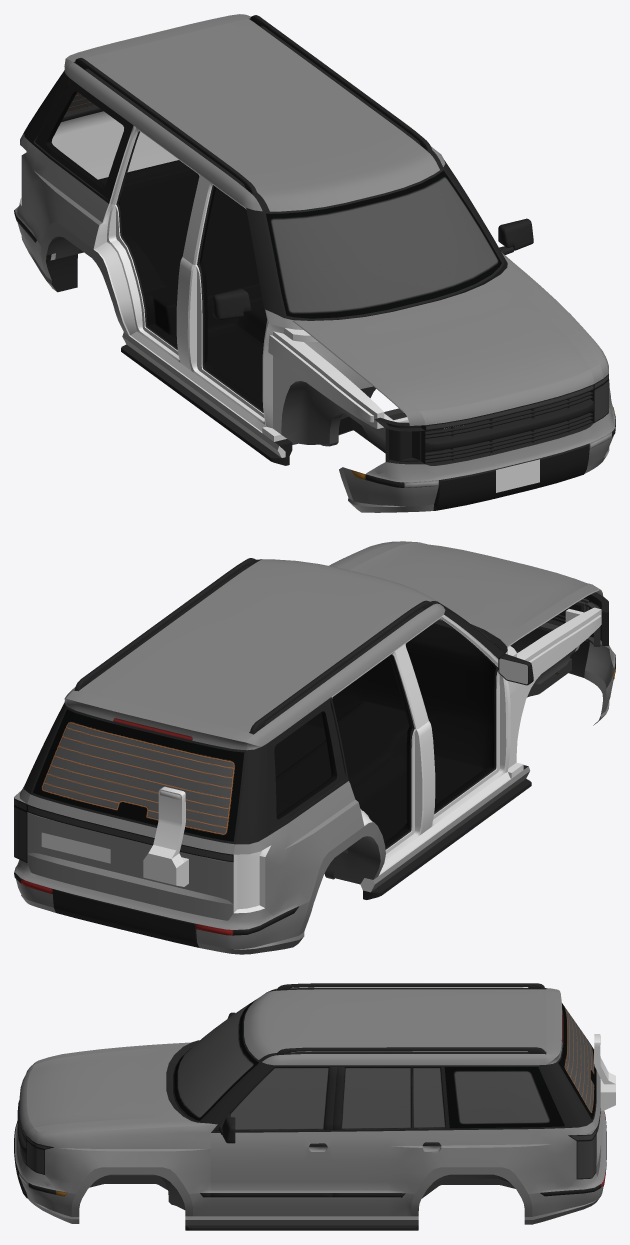
Rendered from interrawt3.dae.
The picture shows the model from 3 angles, top to bottom: view 1: azimuth 30°, elevation 25°; view 2: azimuth 150°, elevation 25°; view 3: azimuth 270°, elevation 25°; orthographic projection. The views are drawn at different scales.
Parts seen in each view (by area): view 1: interrawt3_body, interrawt3_hood, interrawt3_wipers, interrawt3_bumper_F, interrawt3_tailgate, interrawt3_sideskirts, interrawt3_grille_base, interrawt3_deflector_F, interrawt3_body_trim, interrawt3_grille_frame, interrawt3_lights_headlight_L_cover, interrawt3_glass (+4 smaller); view 2: interrawt3_body, interrawt3_tailgate, interrawt3_tailgateglass, interrawt3_hood, interrawt3_bumper_R, interrawt3_sideskirts, interrawt3_sparetireholder, interrawt3_glass, interrawt3_bumper_F, Plane.003, interrawt3_body_trim, interrawt3_lights_headlight_L_cover; view 3: interrawt3_body, interrawt3_door_FL, interrawt3_hood, interrawt3_fender_FL, interrawt3_door_RL, interrawt3_quarterglass_L, interrawt3_doorglass_RL, interrawt3_wipers, interrawt3_doorglass_FL, interrawt3_sideskirts, interrawt3_bumper_R, interrawt3_tailgateglass (+9 smaller).
Part boxes in pixels (x1,y1,x2,y2): interrawt3_body: (20, 15, 507, 449); interrawt3_hood: (292, 268, 599, 412); interrawt3_wipers: (266, 170, 501, 318); interrawt3_bumper_F: (339, 408, 615, 512); interrawt3_tailgate: (51, 14, 250, 179); interrawt3_sideskirts: (121, 332, 292, 465); interrawt3_grille_base: (425, 392, 592, 463); interrawt3_deflector_F: (404, 364, 603, 425); interrawt3_body_trim: (46, 218, 533, 319); interrawt3_grille_frame: (421, 390, 593, 465); interrawt3_lights_headlight_L_cover: (374, 417, 425, 464); interrawt3_glass: (425, 374, 608, 430); interrawt3_body: (20, 558, 601, 917); interrawt3_tailgate: (27, 690, 261, 920); interrawt3_tailgateglass: (33, 709, 244, 841); interrawt3_hood: (338, 541, 599, 647); interrawt3_bumper_R: (14, 859, 313, 954); interrawt3_sideskirts: (363, 765, 531, 899); interrawt3_sparetireholder: (143, 786, 188, 886); interrawt3_glass: (14, 798, 233, 862); interrawt3_bumper_F: (510, 628, 615, 725); Plane.003: (41, 832, 110, 863); interrawt3_body_trim: (498, 654, 533, 685); interrawt3_lights_headlight_L_cover: (589, 592, 608, 645); interrawt3_body: (107, 983, 595, 1216); interrawt3_door_FL: (210, 1065, 337, 1216); interrawt3_hood: (27, 1042, 190, 1131); interrawt3_fender_FL: (31, 1121, 217, 1216); interrawt3_door_RL: (332, 1065, 448, 1216); interrawt3_quarterglass_L: (444, 1067, 564, 1128); interrawt3_doorglass_RL: (341, 1067, 445, 1129); interrawt3_wipers: (174, 1000, 258, 1120); interrawt3_doorglass_FL: (230, 1067, 328, 1130); interrawt3_sideskirts: (185, 1216, 418, 1230); interrawt3_bumper_R: (521, 1110, 606, 1224); interrawt3_tailgateglass: (558, 1003, 595, 1119).
Size of the model in its own units: 2.3 by 5.04 by 1.58.
Materials: 19 (9 with a texture image).
